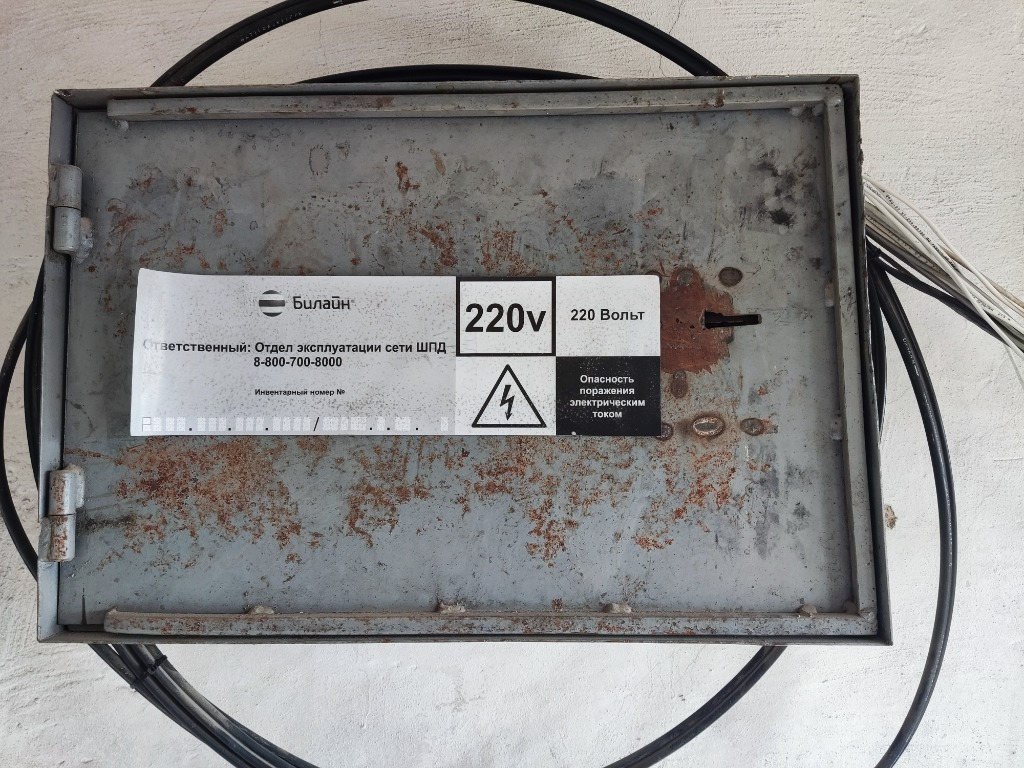e2-6u: (33, 70, 901, 651)
